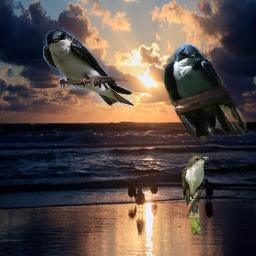Cuckoo: (182, 152, 209, 234)
Swallow: (161, 42, 249, 147), (43, 30, 134, 106)
